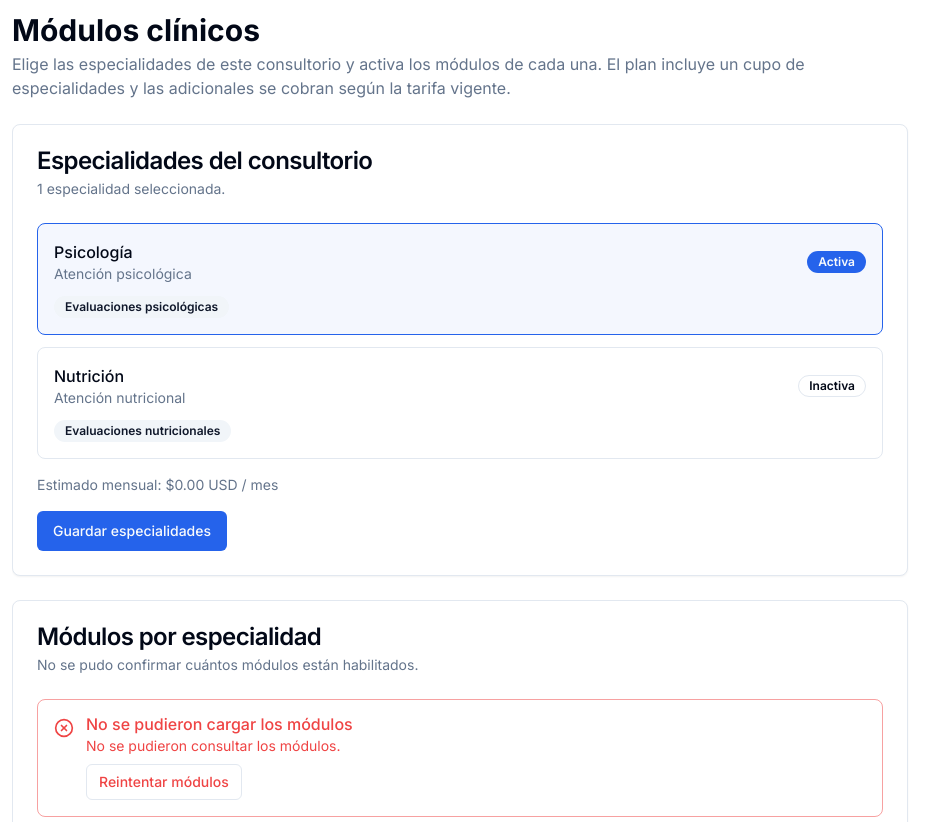
SpecialtyManager › shows a retry action and no authoritative count after module loading fails
Expected: the message shows "No se pudieron consultar los módulos.", [86, 737, 340, 754]
Click the button "Reintentar módulos" at [164, 782], box [86, 764, 242, 800]
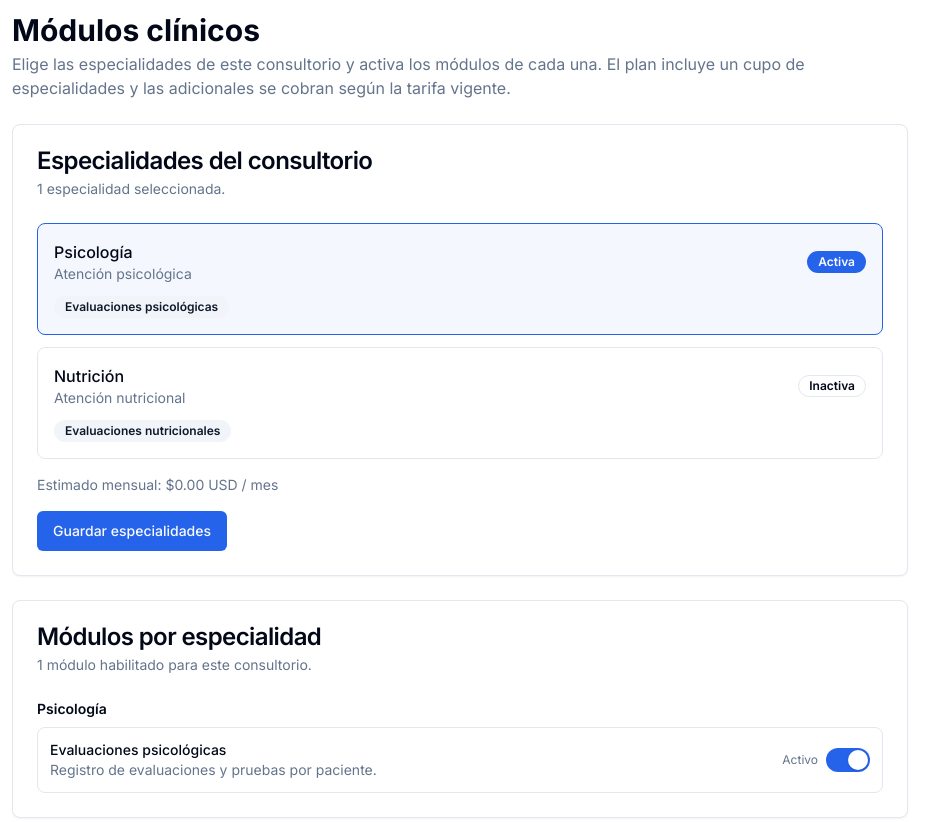
Expected: the text "1 módulo habilitado para este consultorio." is shown, [37, 656, 312, 673]
